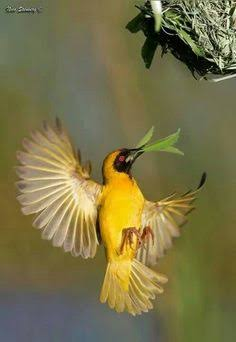target: (12, 107, 207, 321)
